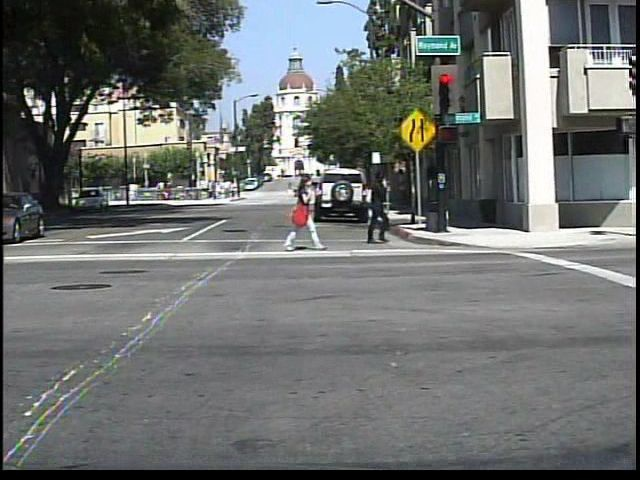person: (354, 167, 400, 250), (284, 167, 324, 251), (288, 182, 304, 202)
